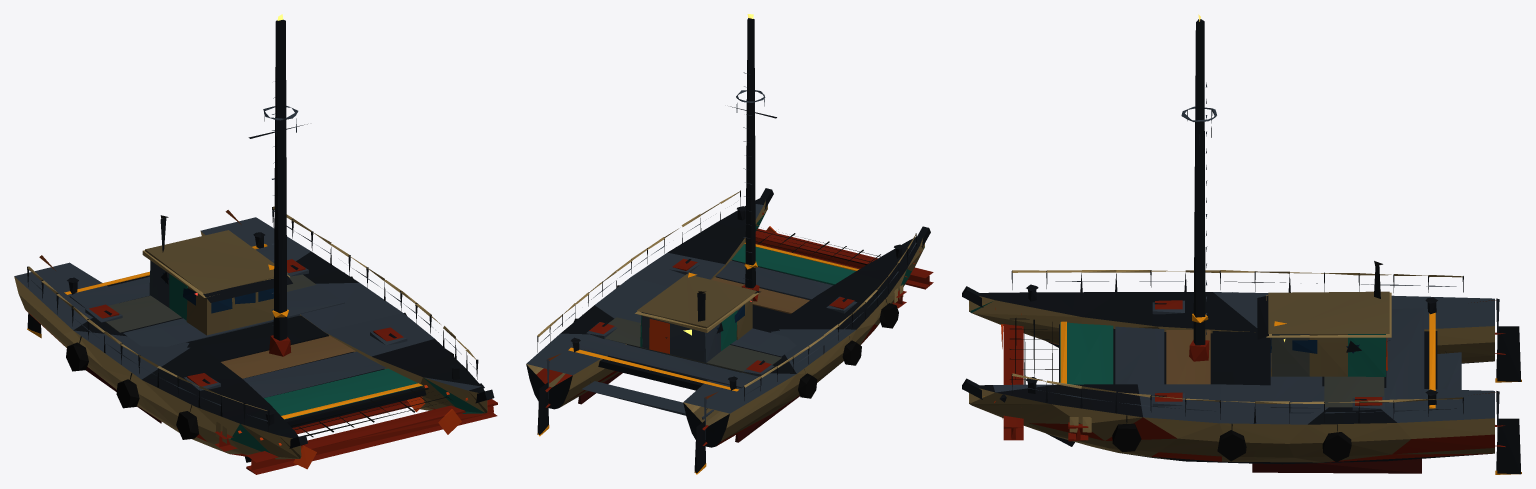
The model's file is tb_ironwake.three-web-toon.lod25.glb.
3 views of the same model, side by side, from view 1: azimuth 30°, elevation 25°; view 2: azimuth 150°, elevation 25°; view 3: azimuth 270°, elevation 25° (orthographic). The views are drawn at different scales.
Visible parts, largest first — view 1: ironwake_hulls_lod, ironwake_deck_lod, ironwake_wheelhouse_lod, ironwake_mast_lod; view 2: ironwake_hulls_lod, ironwake_deck_lod, ironwake_wheelhouse_lod, ironwake_mast_lod, ironwake_rudder_port_lod, ironwake_rudder_starboard_lod; view 3: ironwake_hulls_lod, ironwake_deck_lod, ironwake_wheelhouse_lod, ironwake_mast_lod, ironwake_rudder_starboard_lod, ironwake_rudder_port_lod.
Part boxes in pixels (x1,y1,x2,y2): ironwake_hulls_lod: [14, 217, 494, 462]; ironwake_deck_lod: [27, 206, 497, 474]; ironwake_wheelhouse_lod: [142, 215, 292, 335]; ironwake_mast_lod: [248, 14, 307, 356]; ironwake_hulls_lod: [526, 188, 930, 447]; ironwake_deck_lod: [537, 190, 933, 419]; ironwake_wheelhouse_lod: [635, 272, 760, 362]; ironwake_mast_lod: [730, 14, 776, 301]; ironwake_rudder_port_lod: [694, 392, 717, 474]; ironwake_rudder_starboard_lod: [537, 354, 560, 436]; ironwake_hulls_lod: [962, 284, 1494, 473]; ironwake_deck_lod: [1001, 270, 1463, 441]; ironwake_wheelhouse_lod: [1257, 261, 1391, 376]; ironwake_mast_lod: [1181, 14, 1216, 361]; ironwake_rudder_starboard_lod: [1474, 391, 1521, 474]; ironwake_rudder_port_lod: [1471, 298, 1521, 382].
Bounding box in the file's own units: 8.18 × 11.28 × 13.85.
